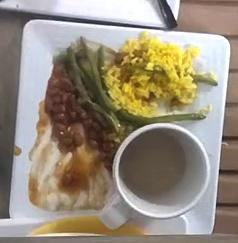beans: (45, 64, 116, 166)
green_beans: (65, 37, 121, 131), (118, 105, 212, 128)
rice: (103, 31, 199, 116)
